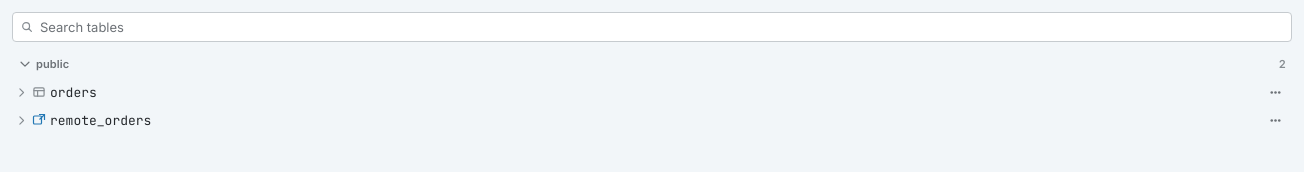
TableList › expand shows PK icon; foreign table has a distinct icon
This screenshot has width=1304, height=172.
What coordinates should you click on to do the following:
click the button named "Expand columns"
I would click on:
 (21, 92)
Its box is [12, 82, 30, 102].
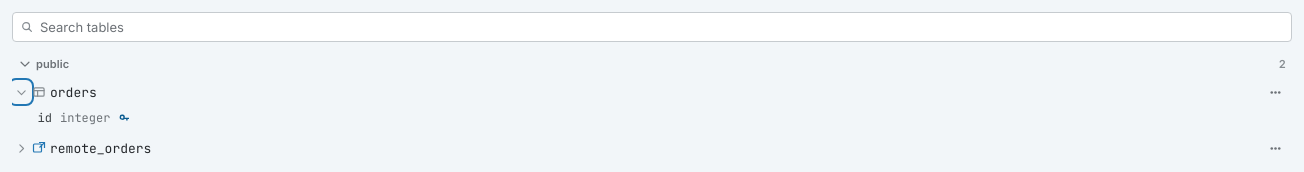
Expected: the picture named "Foreign table" is shown, [32, 141, 46, 155]
Result: the picture named "Primary key" is shown at [118, 112, 130, 124]
